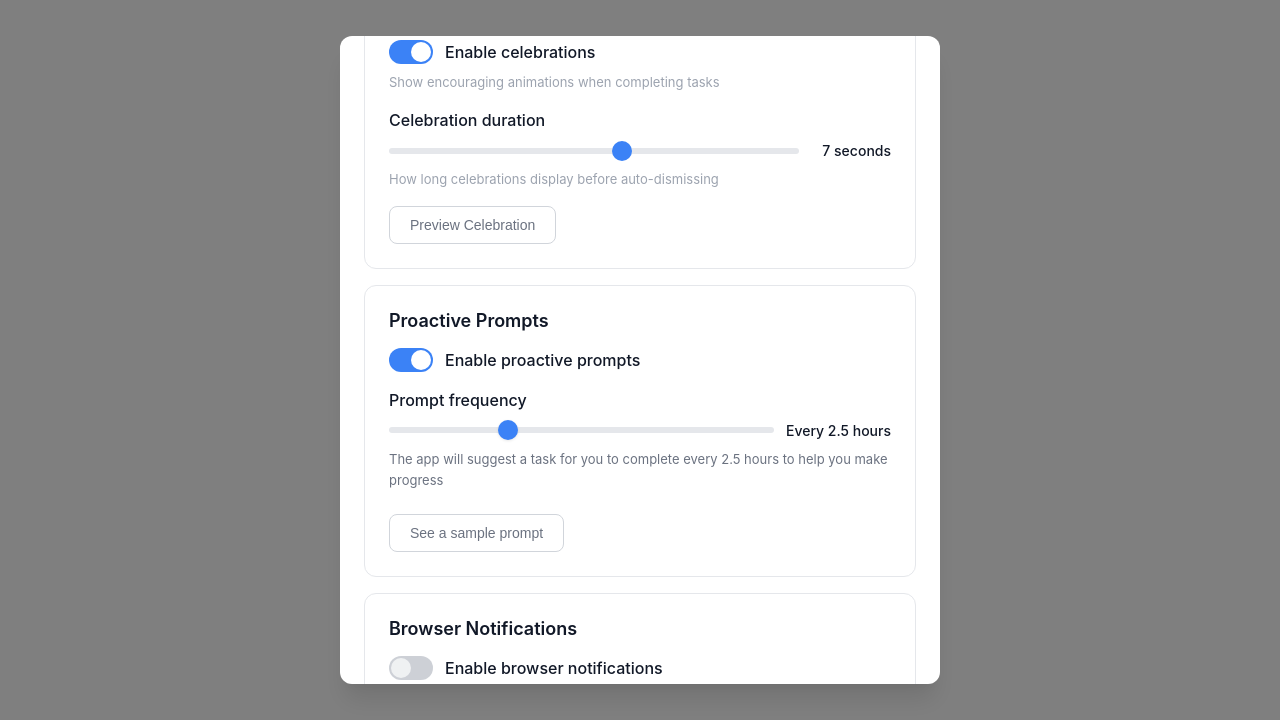
Test case: Prompting Config Flow › should show success toast after saving prompting config
(page scrolled)
Click the switch labelled "Enable proactive prompts".
click(411, 360)  # box [389, 348, 433, 372]
(page scrolled)
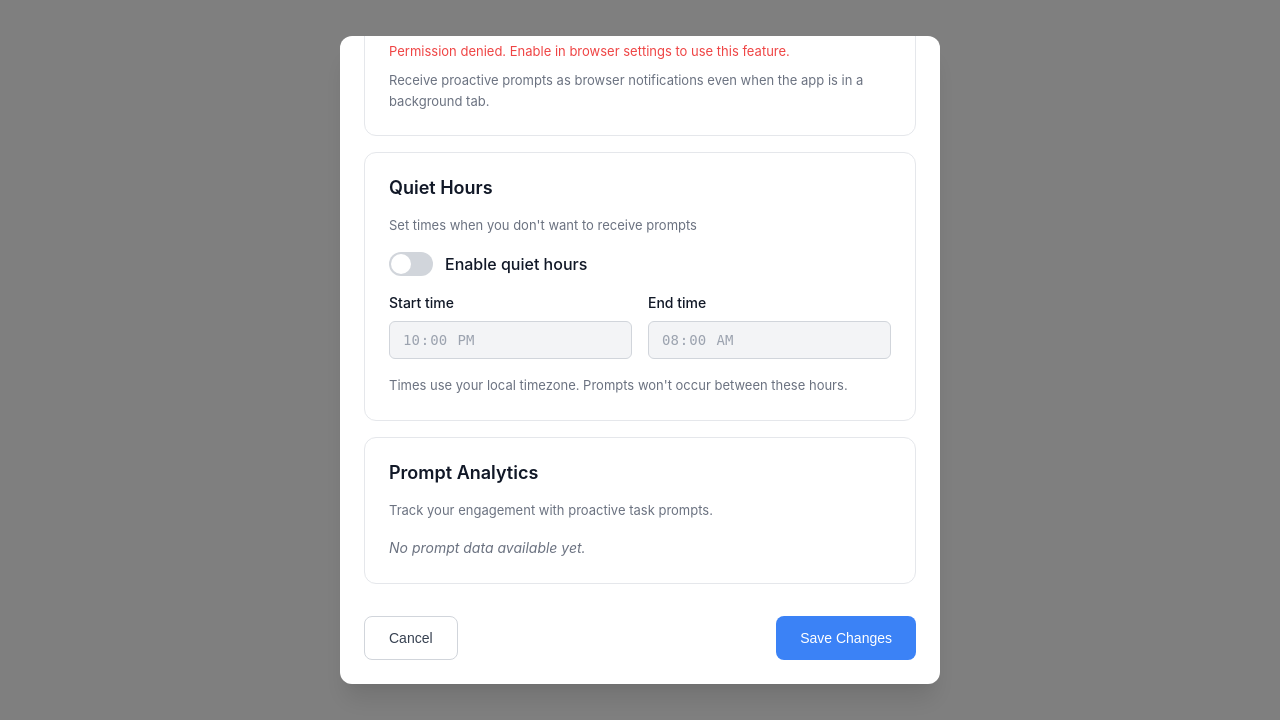
// Click Save Changes button to persist changes
Click the button "Save Changes".
click(846, 638)  # box [776, 616, 916, 660]
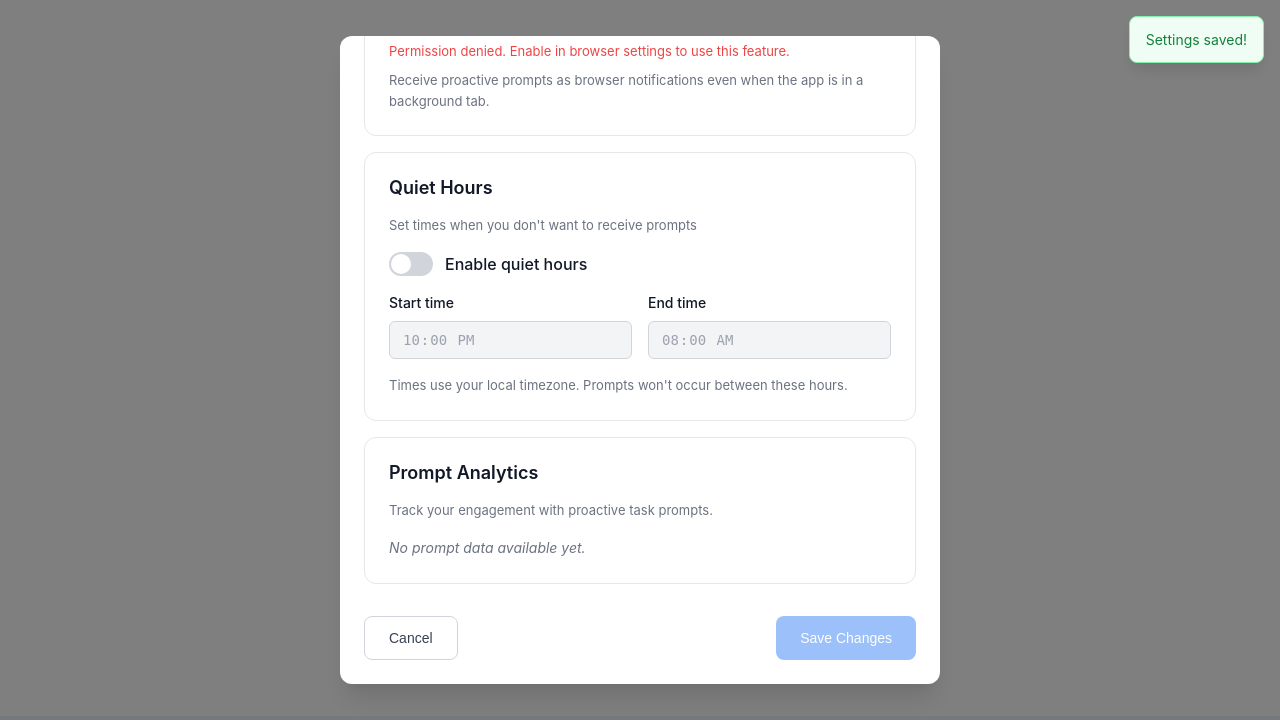
Now the text "Settings saved!" is shown, box [1129, 16, 1264, 63]
